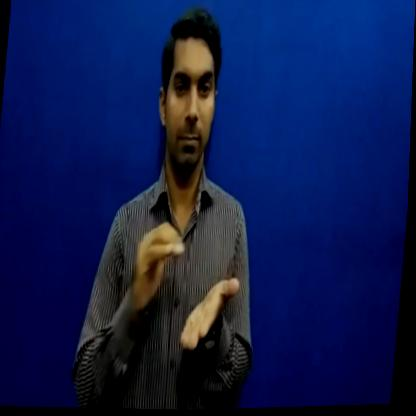ExcuseMe: (121, 216, 251, 368)
